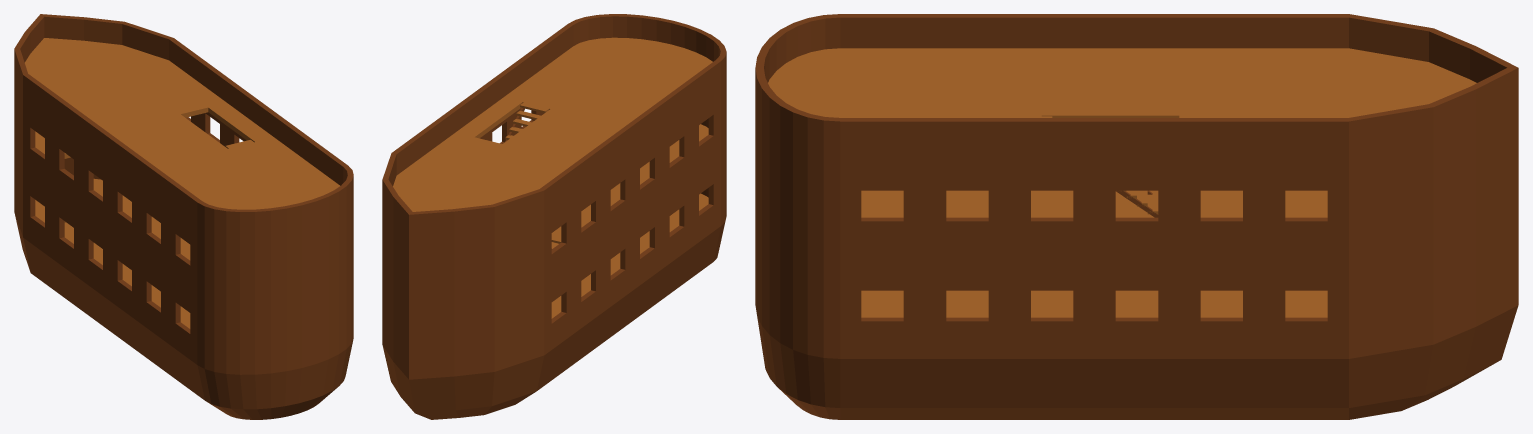
File: TRIPLE_DECK.obj
3 views of the same model, side by side, from view 1: azimuth 30°, elevation 25°; view 2: azimuth 150°, elevation 25°; view 3: azimuth 270°, elevation 25° (orthographic). The views are drawn at different scales.
Bounding box in the file's own units: 6 × 8.6 × 18.
